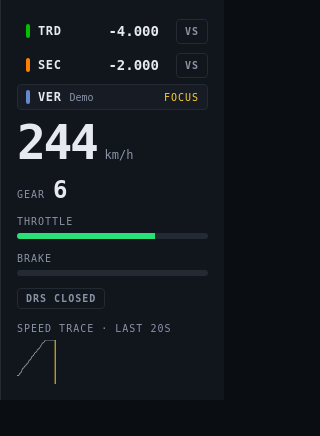
Test: Hud speed-trace comparison › keeps the comparison across an ordinary focus change
This screenshot has width=320, height=436.
Click the button with aria-label "vs SEC" at (192, 65), box [176,52,208,78]
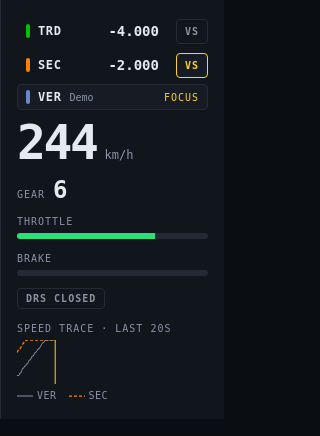
Click the button "TRD -4.000" at (92, 31), box [17,16,168,46]
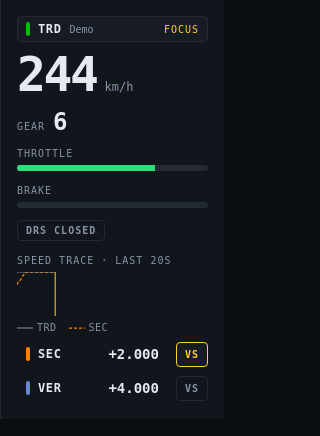
Now the picture named "Speed trace for TRD compared with SEC" is shown, box [17,272,208,316]
